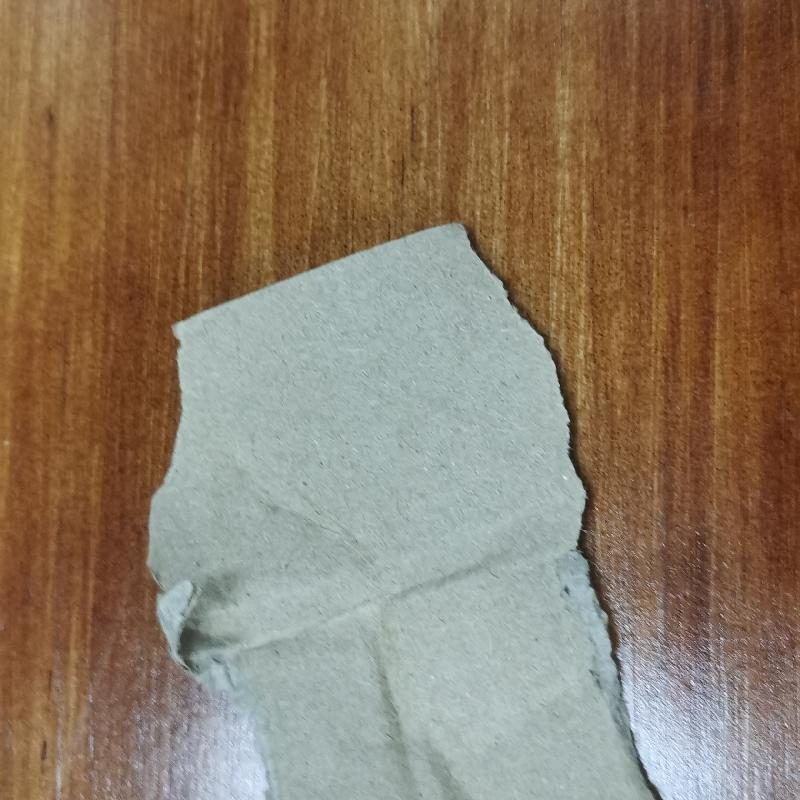boxes: (134, 220, 670, 800)
